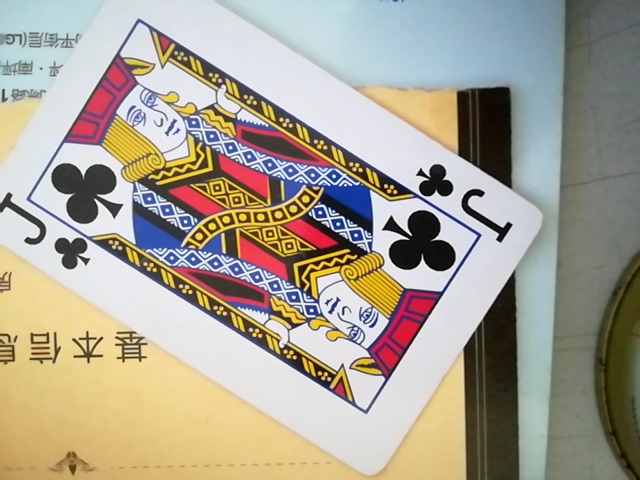mh j: (2, 5, 559, 477)
